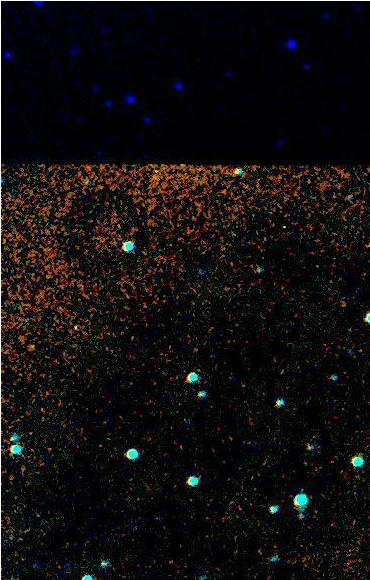star: (63, 309, 93, 339)
